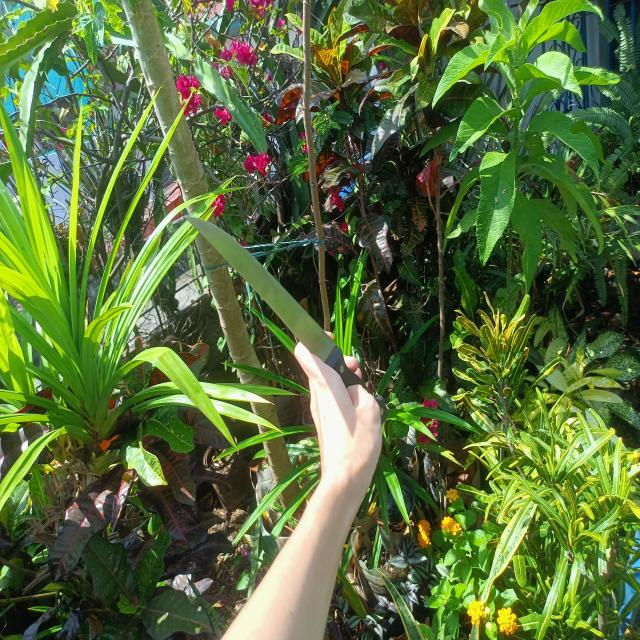knife: (185, 216, 386, 422)
